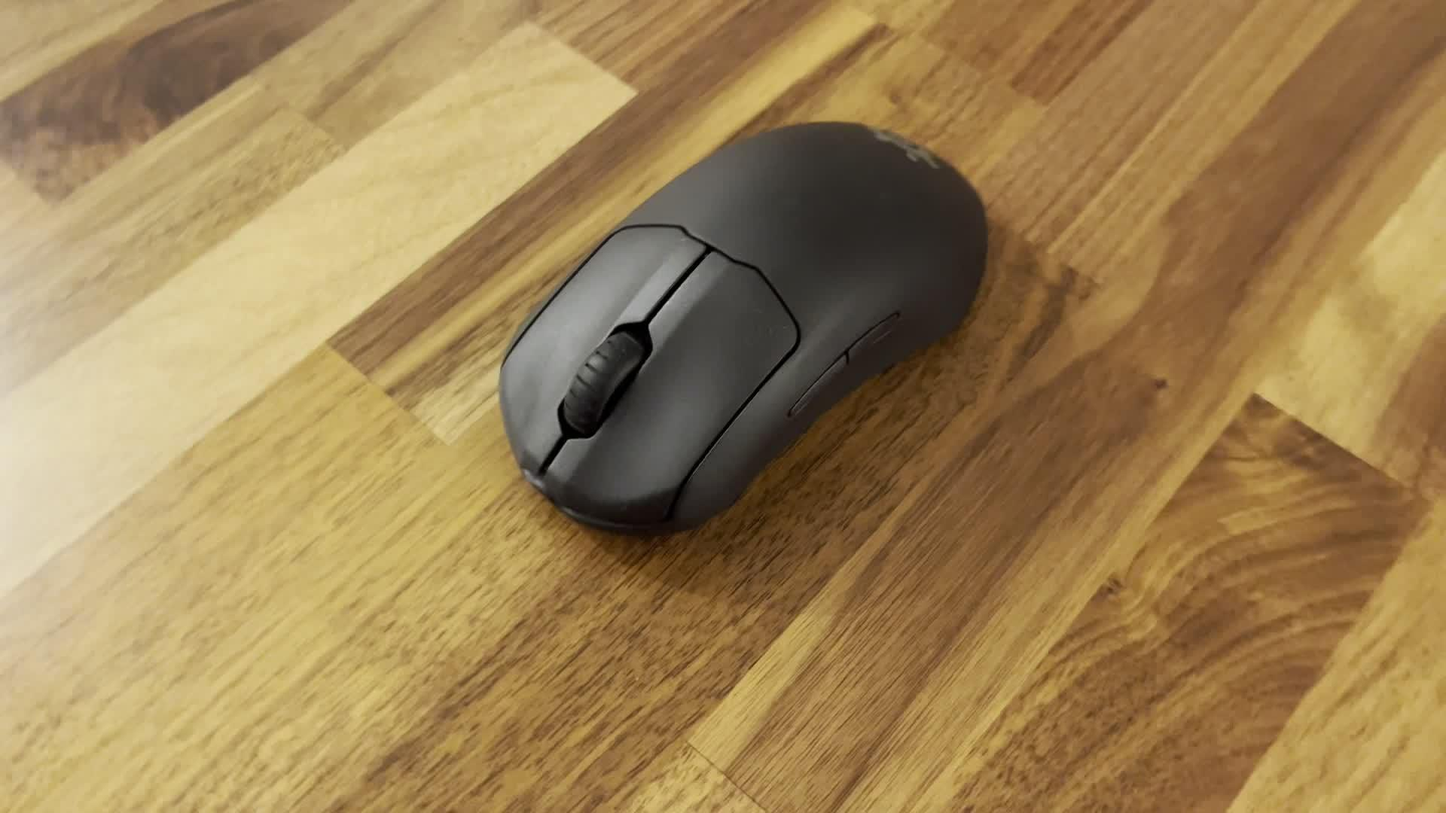mouse: (495, 114, 993, 546)
